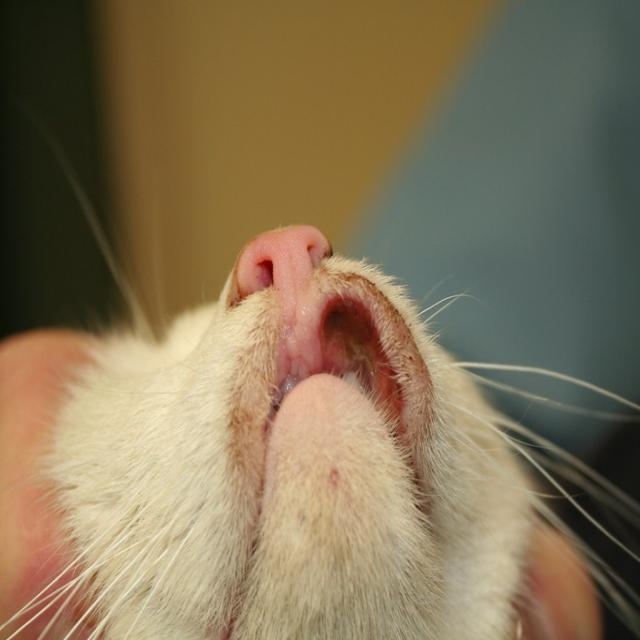cat-ulcer: (310, 291, 382, 378)
